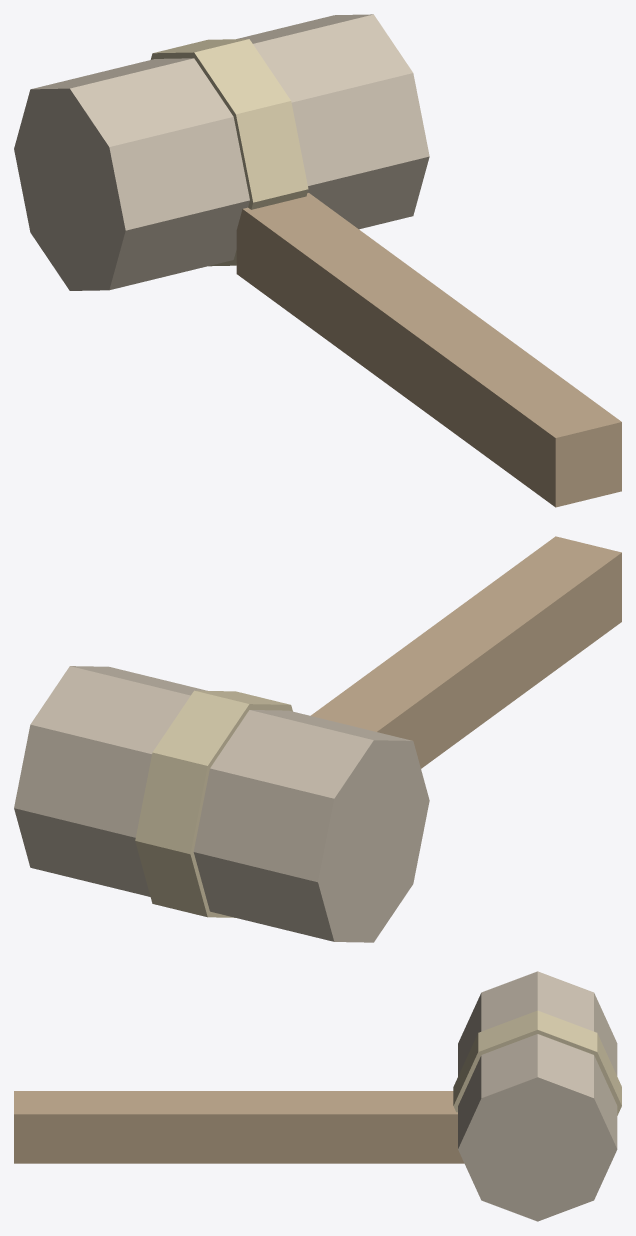
File: prop-felting-mallet.fbx
The picture shows the model from 3 angles, top to bottom: view 1: azimuth 30°, elevation 25°; view 2: azimuth 150°, elevation 25°; view 3: azimuth 270°, elevation 25°; orthographic projection. The views are drawn at different scales.
Parts seen in each view (by area): view 1: prop-felting-mallet; view 2: prop-felting-mallet; view 3: prop-felting-mallet.
Part boxes in pixels (box(x1,y1,x2,y2)): prop-felting-mallet: box(14, 14, 621, 507); prop-felting-mallet: box(14, 536, 621, 942); prop-felting-mallet: box(14, 971, 621, 1221).
Bounding box in the file's own units: 11 × 7.4 × 26.7.
